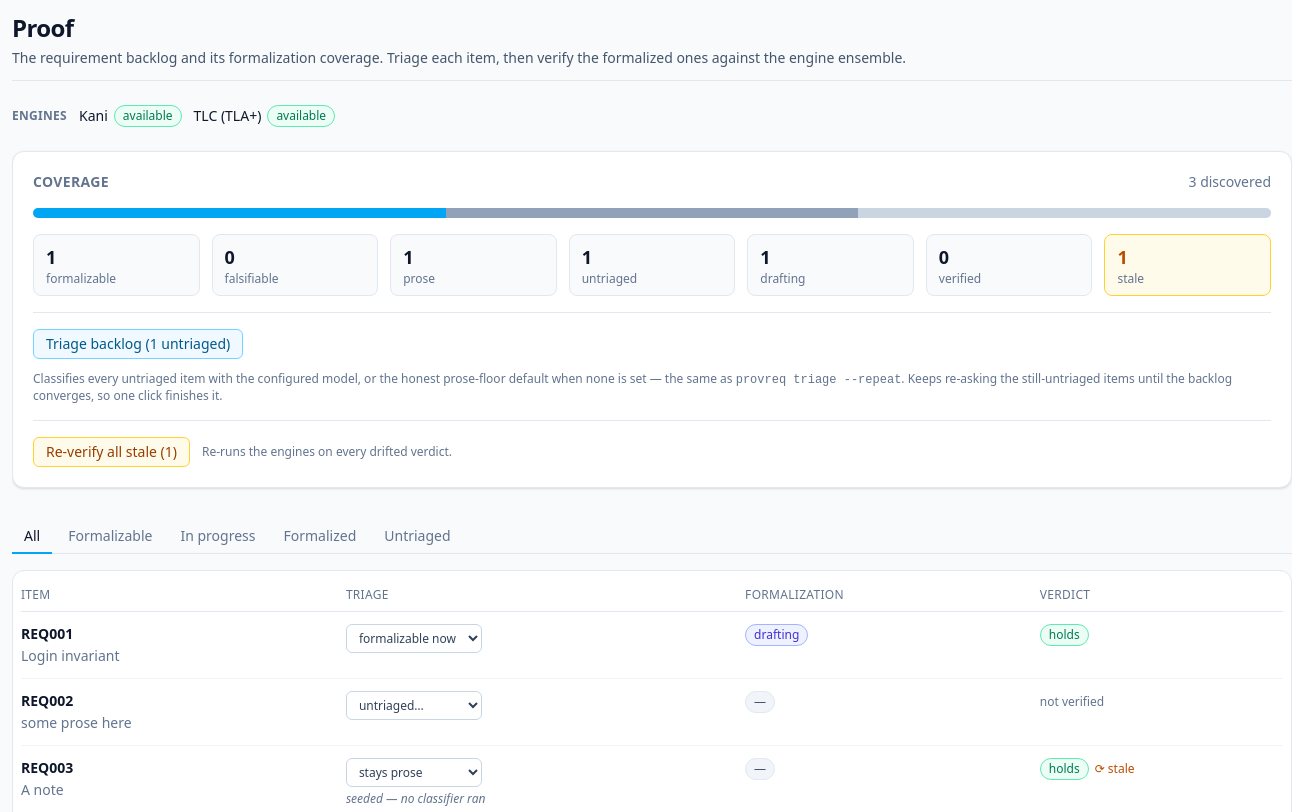
Test: ProofPage › filter tabs narrow the list
This screenshot has width=1292, height=812.
Expected: the button "REQ001" is shown, [21,624,73,644]
Step 1. Click the tab "Untriaged" → (417, 537), box [372,520,463,554]
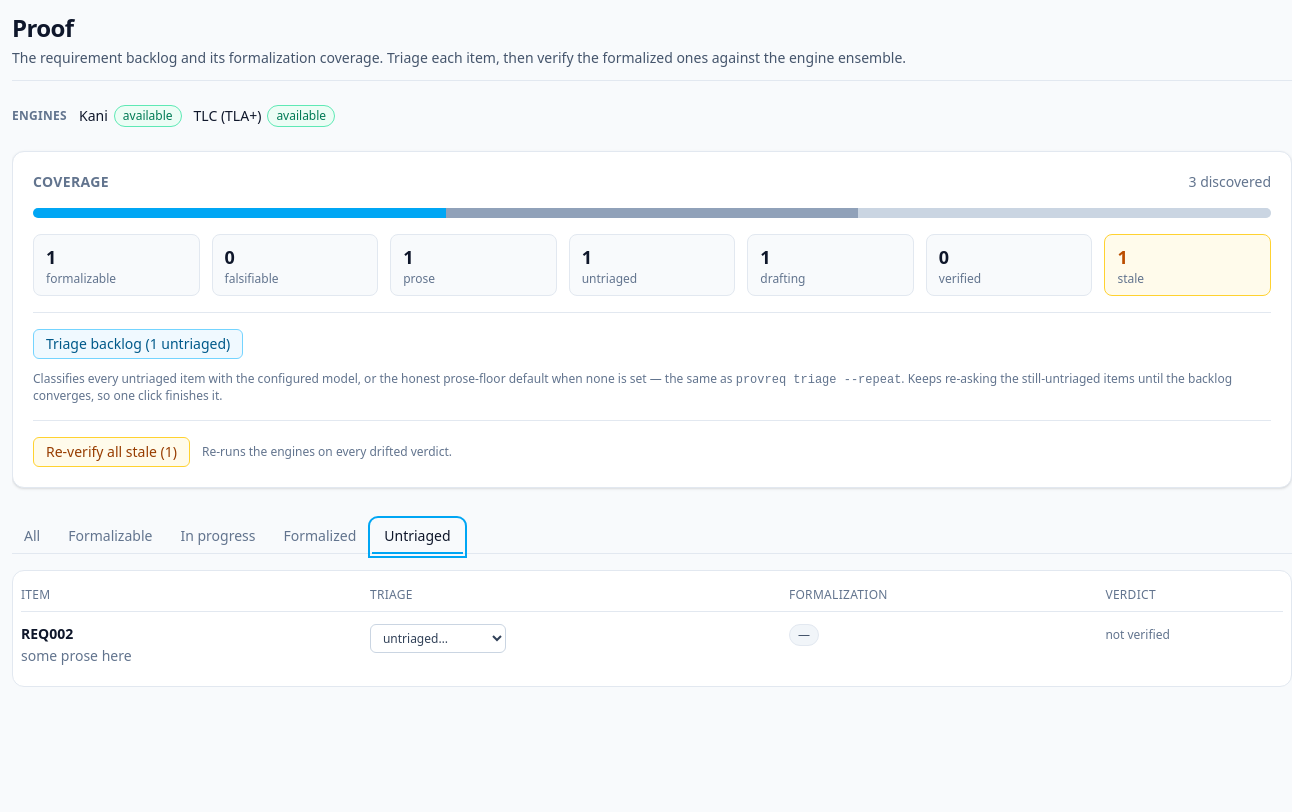
Expected: the button "REQ002" is shown, [21,624,73,644]
Result: the button "REQ001" is gone
Result: the button "REQ003" is gone
